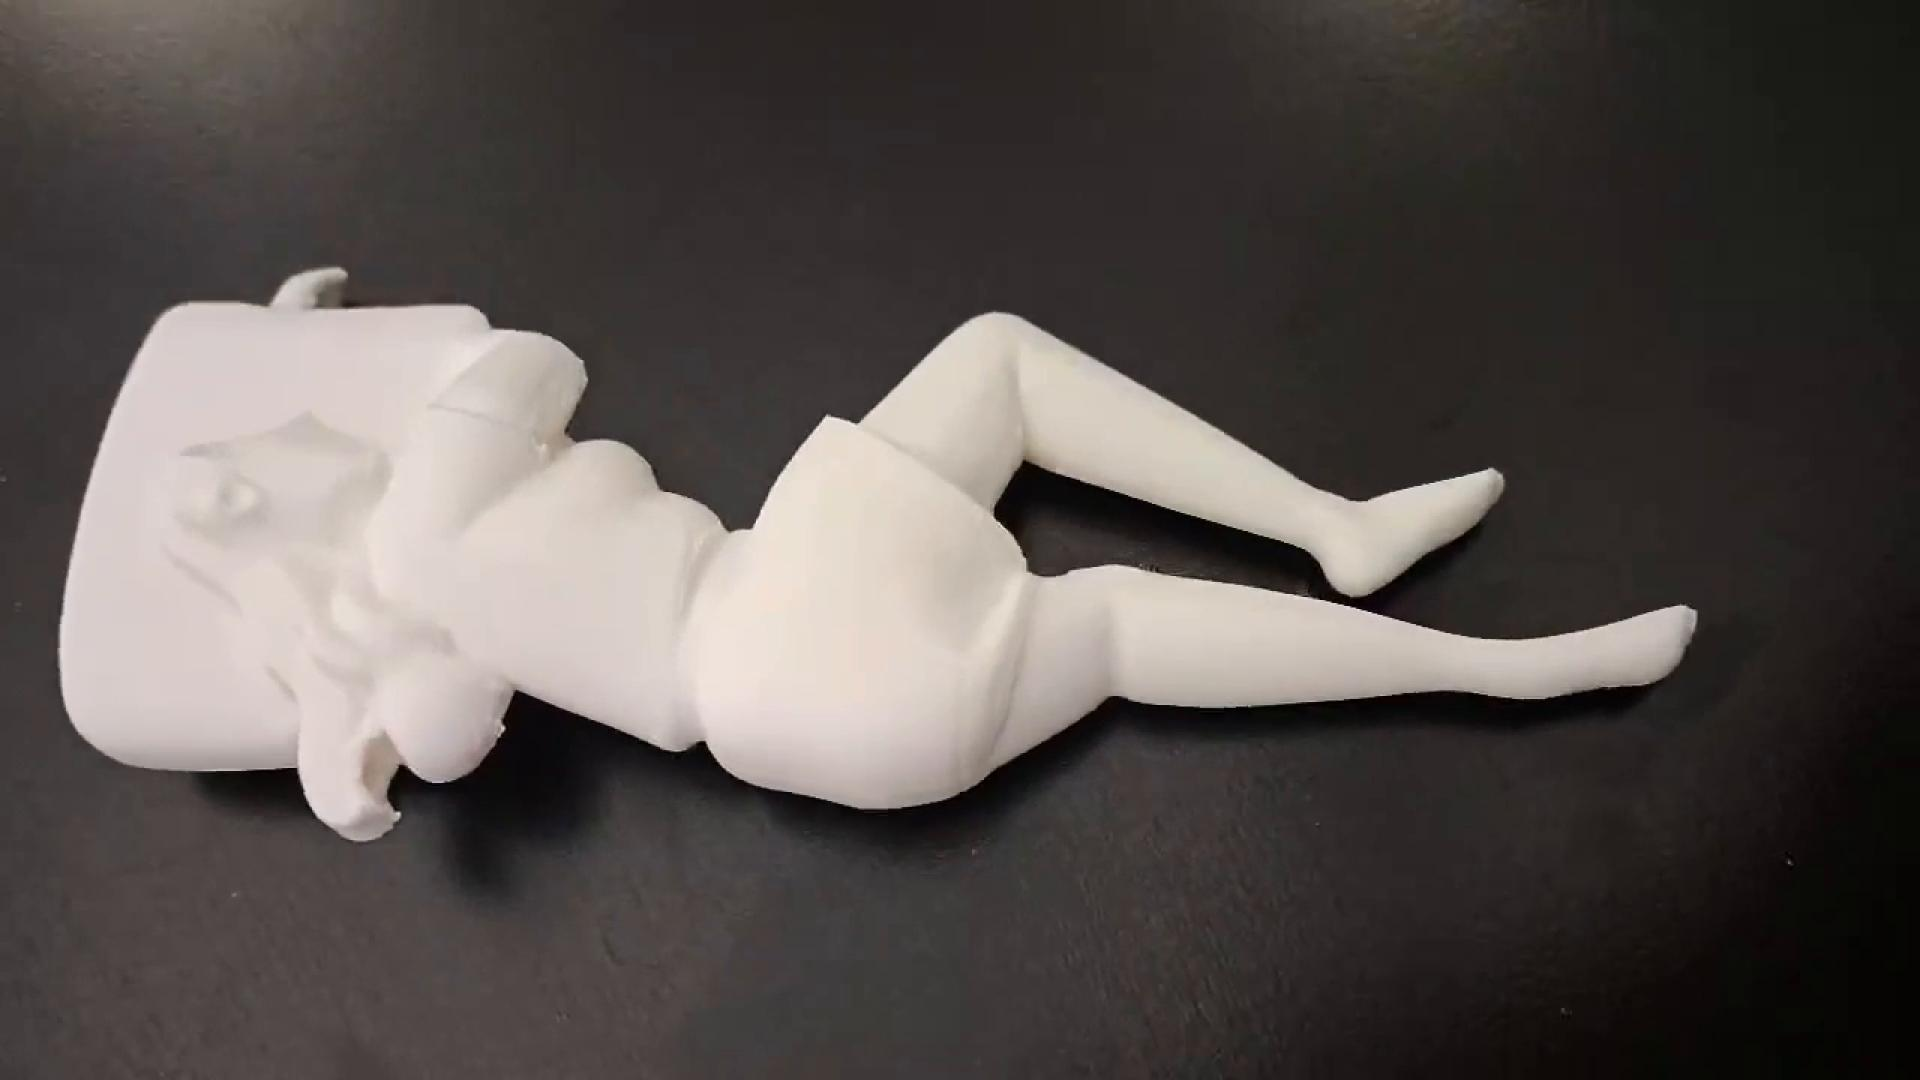Good-style: (42, 262, 1695, 843)
